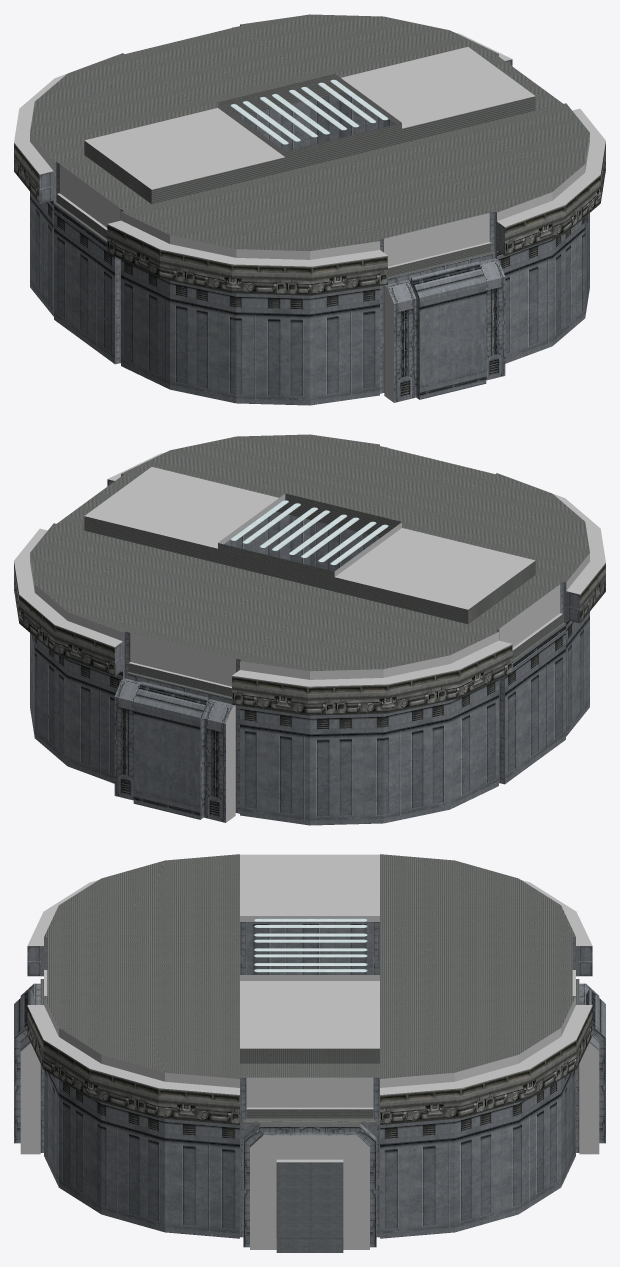
Rendered from poi_all_impl_bunker_warren_s01_r59_smallroom59_mesh_r59.fbx.
3 views of the same model, one above another, from view 1: azimuth 30°, elevation 25°; view 2: azimuth 150°, elevation 25°; view 3: azimuth 270°, elevation 25° (orthographic). The views are drawn at different scales.
Parts seen in each view (by area): view 1: mesh_node; view 2: mesh_node; view 3: mesh_node.
Boxes of the visible parts, x1,y1,x2,y2 form: mesh_node: (14, 14, 605, 405); mesh_node: (14, 434, 605, 825); mesh_node: (14, 854, 605, 1252).
Bounding box in the file's own units: 17.5 × 6 × 17.8.
